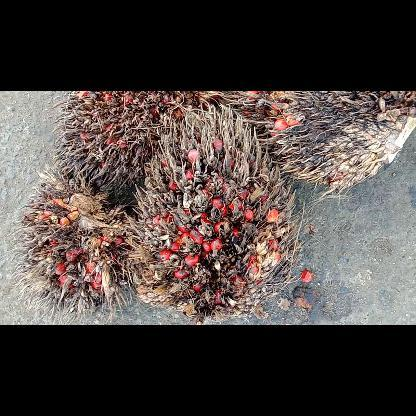Terlalu masak: (119, 100, 302, 324), (4, 162, 141, 324), (219, 90, 414, 198), (51, 90, 229, 198)
